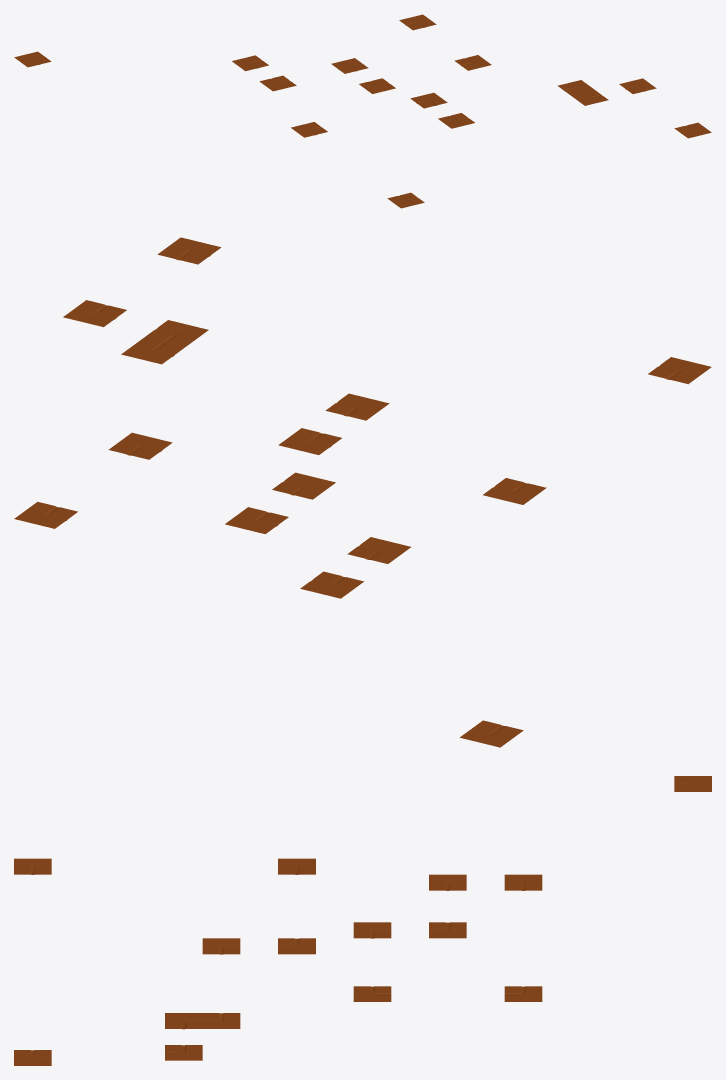
File: Terrain_Part_Plane_12.glb
The picture shows the model from 3 angles, top to bottom: view 1: azimuth 30°, elevation 25°; view 2: azimuth 150°, elevation 25°; view 3: azimuth 270°, elevation 25°; orthographic projection. The views are drawn at different scales.
Parts seen in each view (by area): view 1: Terrain_Part_Plane_12.015; view 2: Terrain_Part_Plane_12.015; view 3: Terrain_Part_Plane_12.015.
Part boxes in pixels (box(x1,y1,x2,y2)): Terrain_Part_Plane_12.015: box(14, 14, 711, 208); Terrain_Part_Plane_12.015: box(14, 237, 711, 747); Terrain_Part_Plane_12.015: box(14, 776, 711, 1065).
Size of the model in its own units: 370 by 6.2 by 370.
